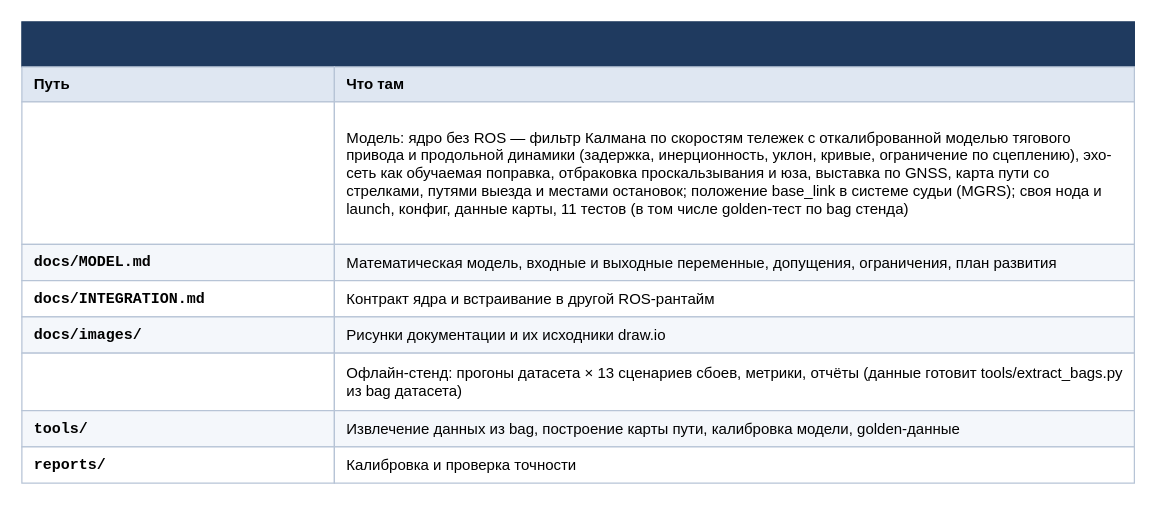
Some shapes in this 1156 by 505 pixel diagram are drawn without their labels. The shapes that lost their labels are listed below. From the top down, each one's box as (x1, y1, x2, y2) in pixels, then its label:
(21, 21, 1134, 67): Ветка algorithm — модель движения
(21, 101, 334, 244): src/tram_backup_odometry/
(21, 352, 334, 411): bench/
